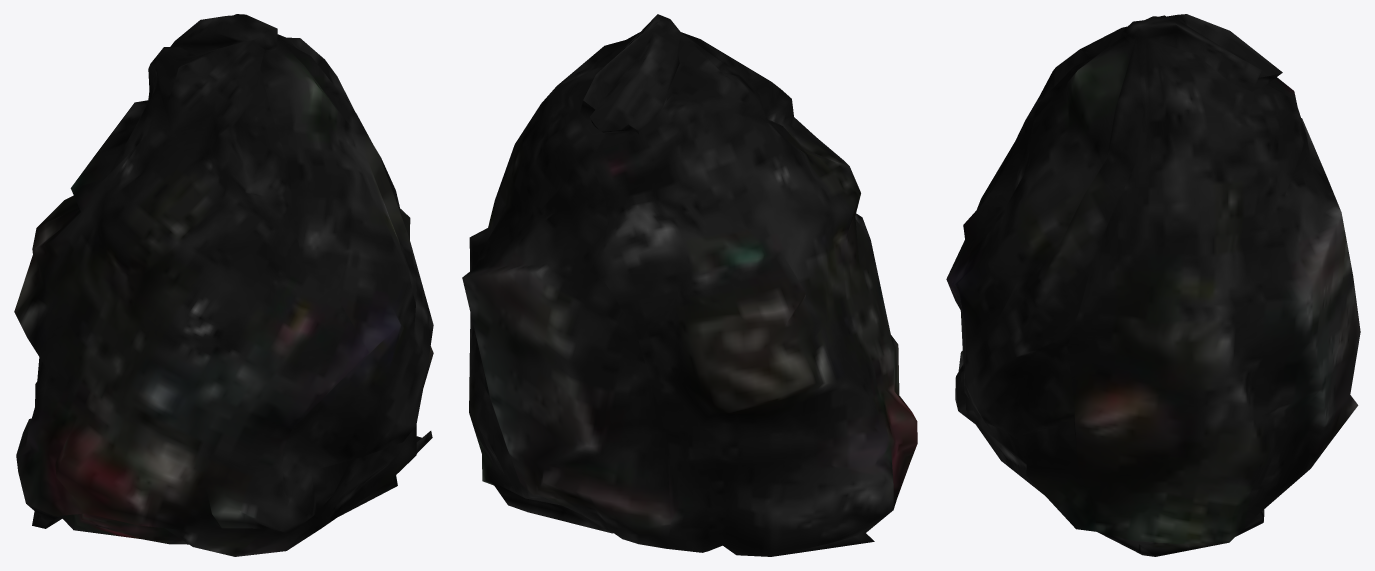
File: trashbag.glb
3 renders of one model, left to right at view 1: azimuth 30°, elevation 25°; view 2: azimuth 150°, elevation 25°; view 3: azimuth 270°, elevation 25°, orthographic.
Visible parts, largest first — view 1: trashbag; view 2: trashbag; view 3: trashbag.
Part boxes in pixels (x1=…): trashbag: x1=14, y1=14, x2=433, y2=556; trashbag: x1=462, y1=14, x2=917, y2=556; trashbag: x1=946, y1=14, x2=1360, y2=556.
Size of the model in its own units: 0.5236 by 0.5722 by 0.4629.
1 material, 1 textured.
